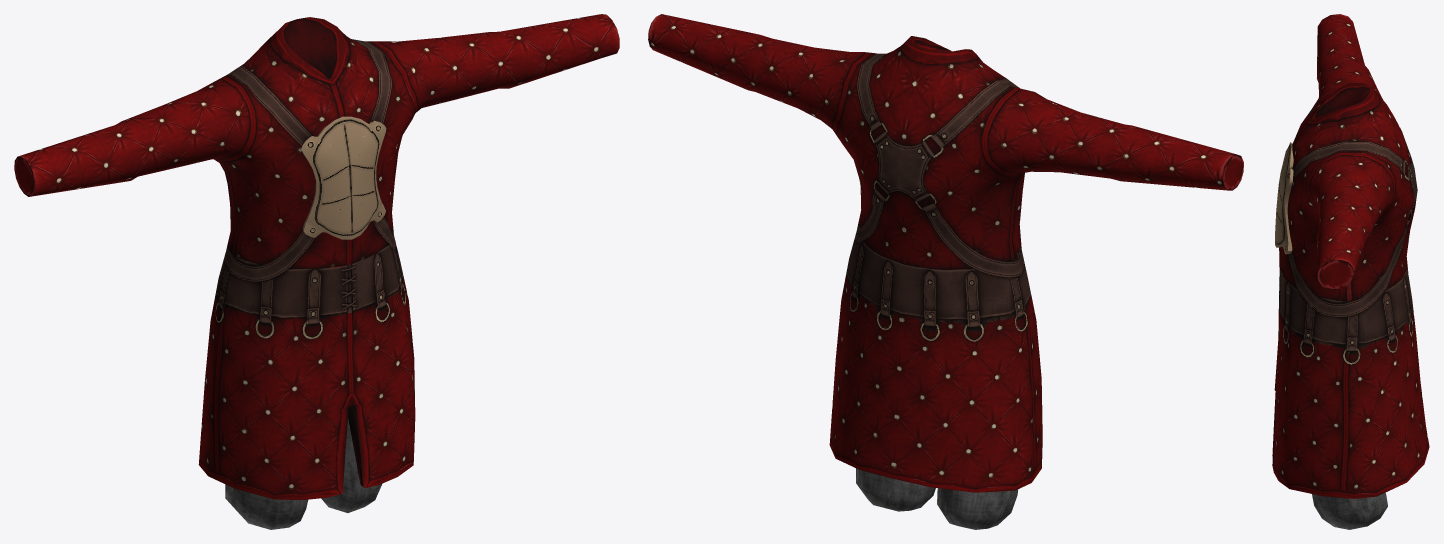
Rendered from Tier_2_game.obj.
The picture shows the model from 3 angles, left to right: view 1: azimuth 30°, elevation 25°; view 2: azimuth 150°, elevation 25°; view 3: azimuth 270°, elevation 25°; orthographic projection. The views are drawn at different scales.
Visible parts, largest first — view 1: Body_game, ShieldChest_game, Legs_game; view 2: Body_game, Legs_game; view 3: Body_game, Legs_game, ShieldChest_game.
Boxes of the visible parts, x1,y1,x2,y2 form: Body_game: (14,14,619,499); ShieldChest_game: (301,116,386,239); Legs_game: (225,418,381,529); Body_game: (648,14,1243,492); Legs_game: (856,468,1018,529); Body_game: (1272,14,1429,498); Legs_game: (1312,492,1387,529); ShieldChest_game: (1275,142,1293,254).
Size of the model in its own units: 1.5 by 1.2 by 0.4062.
